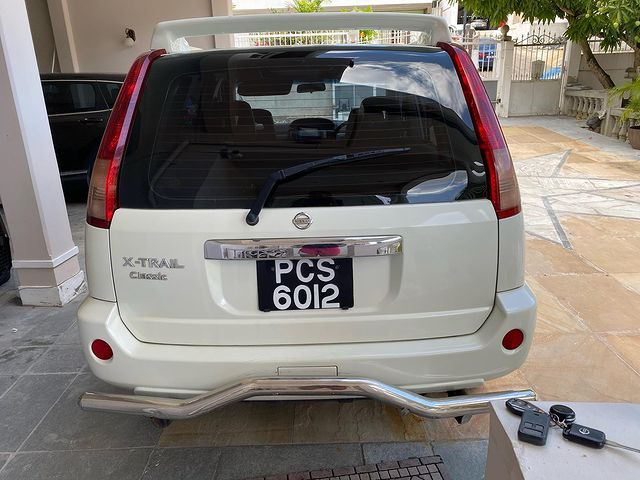License-Plate: (256, 260, 351, 311)
